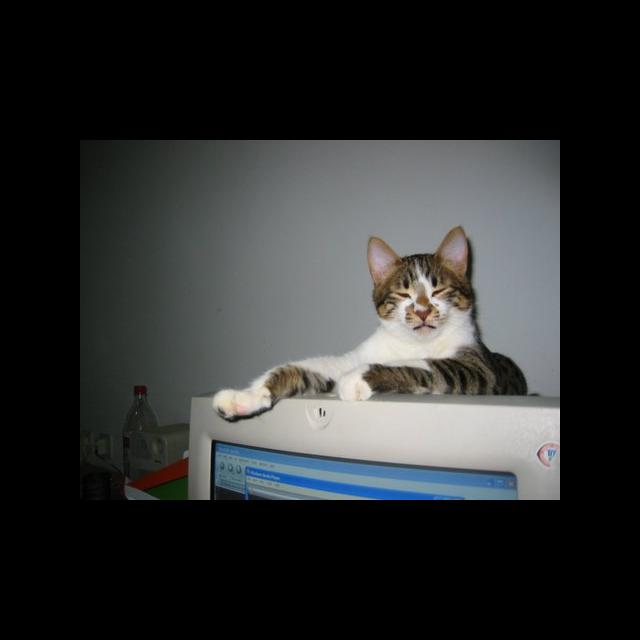animals: (372, 226, 463, 319)
